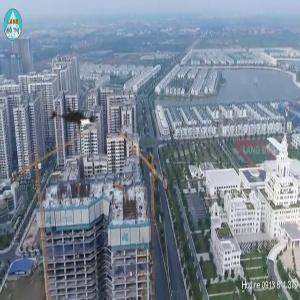drone: (35, 86, 109, 160)
